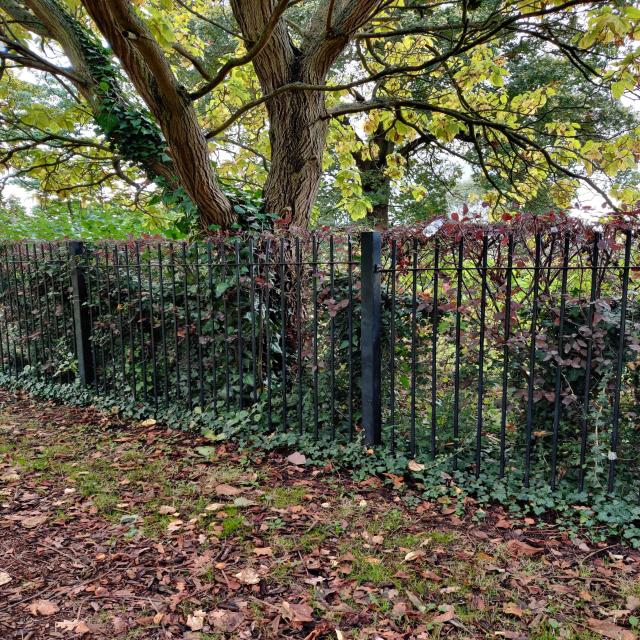litter: (423, 218, 444, 237)
